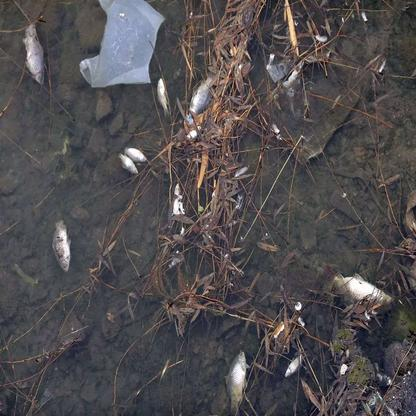deceased fish: (332, 269, 398, 313), (21, 23, 48, 86), (225, 351, 251, 412), (49, 220, 72, 273), (281, 349, 308, 378), (115, 152, 140, 176), (156, 76, 171, 115), (119, 144, 148, 161)
plastic bag: (75, 2, 163, 86)
